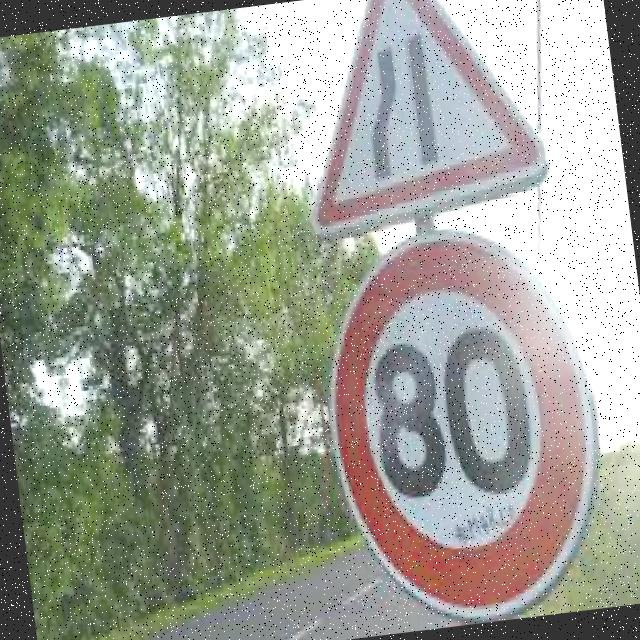Ograniczenie predkosci do 80: (335, 251, 596, 597)
